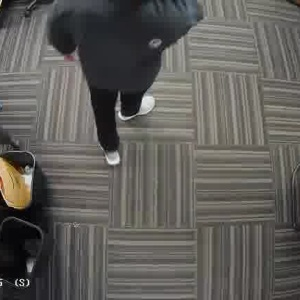person: (65, 0, 175, 142)
